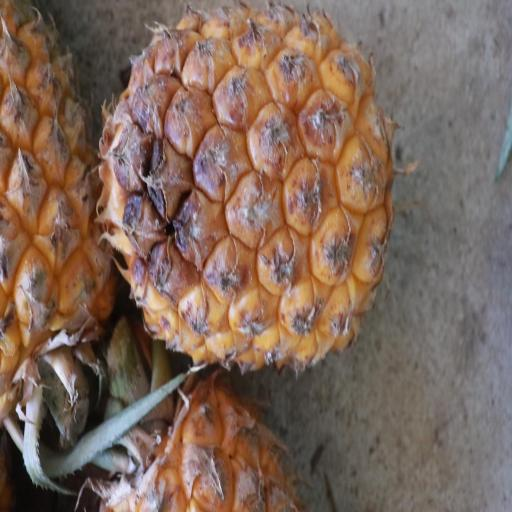Pineapple - v8 v1: (92, 0, 399, 386)
